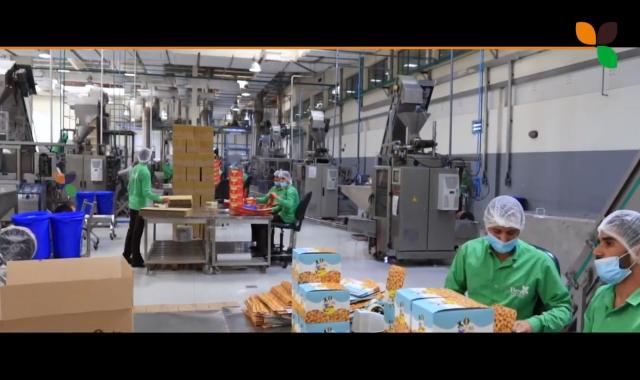hairnet: (596, 208, 640, 276), (485, 192, 523, 252), (274, 168, 290, 186), (137, 147, 151, 164)
